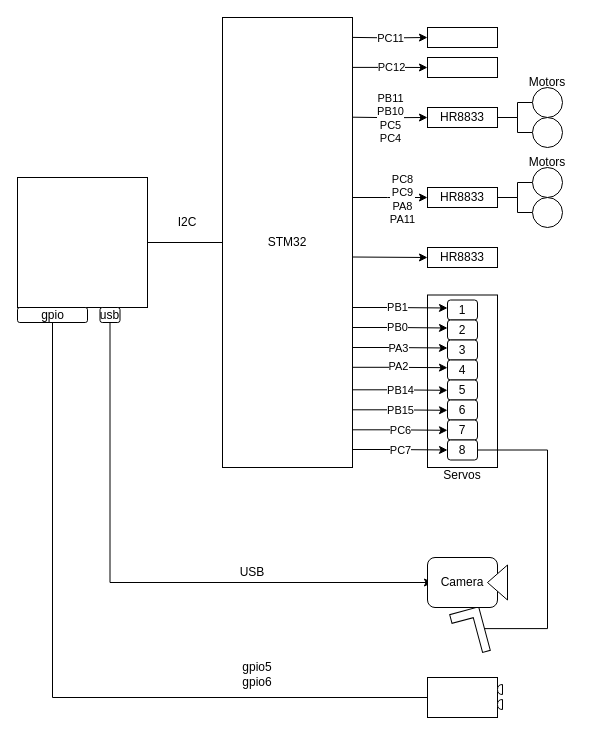
Some shapes in this 595 by 735 pixel diagram are drawn without their labels. The centre of each missing label's shape, as x and y in pixels:
"LED_Left" belongs at pixel 462 37.
"LED_Right" belongs at pixel 462 67.
"PI" belongs at pixel 82 242.
"Tilt" belongs at pixel 469 632.
"Ultrasonic" belongs at pixel 462 697.
